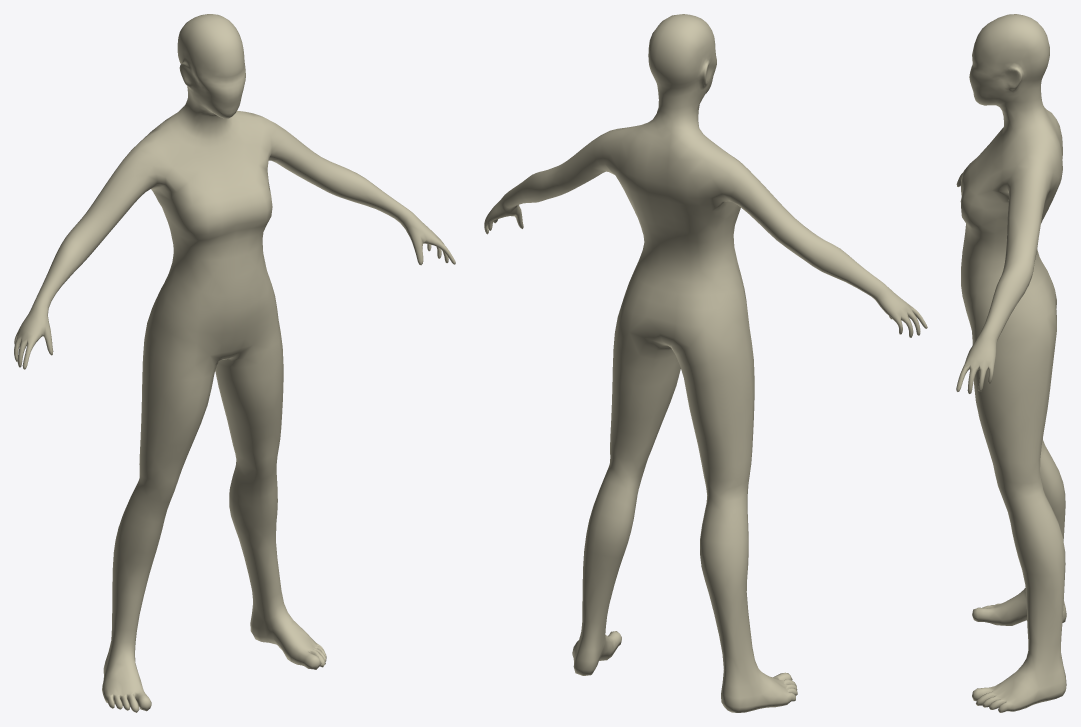
The model's file is woman.obj.
The picture shows the model from 3 angles, left to right: view 1: azimuth 30°, elevation 25°; view 2: azimuth 150°, elevation 25°; view 3: azimuth 270°, elevation 25°; orthographic projection. The views are drawn at different scales.
Visible parts, largest first — view 1: woman.obj; view 2: woman.obj; view 3: woman.obj.
Boxes of the visible parts, x1=… form: woman.obj: x1=14, y1=14, x2=455, y2=712; woman.obj: x1=484, y1=14, x2=927, y2=712; woman.obj: x1=956, y1=14, x2=1066, y2=712.
Bounding box in the file's own units: 3.26 × 4.76 × 0.7375.
